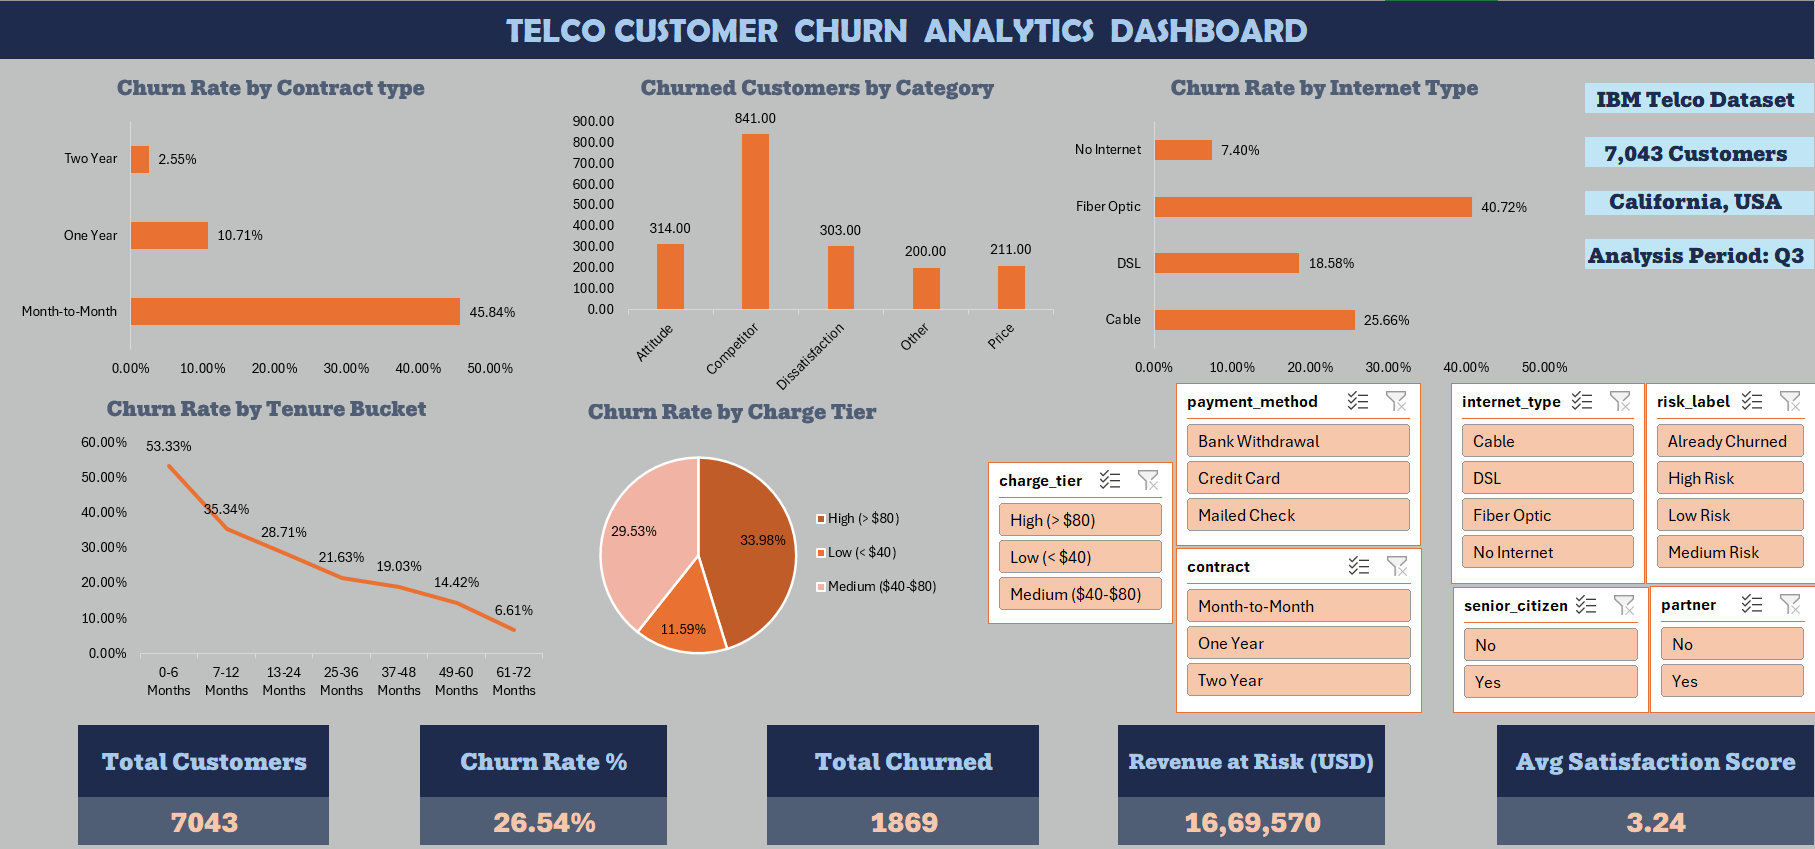

The dashboard page shown, as its layout file describes it:
{"tool":"powerbi","page":{"name":"Dashboard","canvas":[1280,720],"ordinal":0},"visuals":[{"type":"cardVisual","fields":{"Data":["_Measures.Total Customers"]},"box":[0,65.4,246.2,124.4],"z":0},{"type":"cardVisual","fields":{"Data":["_Measures.Churn Rate %"]},"box":[246.2,65.4,242.3,124.4],"z":1000},{"type":"cardVisual","fields":{"Data":["_Measures.Total Churned"]},"box":[750,65.4,261.5,124.4],"z":2000},{"type":"cardVisual","fields":{"Data":["_Measures.Revenue at Risk"]},"box":[488.5,65.4,261.5,124.4],"z":3000},{"type":"cardVisual","fields":{"Data":["_Measures.Avg Satisfaction Score"]},"box":[1011.5,65.4,267.9,124.4],"z":4000},{"type":"clusteredBarChart","fields":{"Category":["dim_services.contract"],"Y":["_Measures.Churn Rate %"]},"box":[0,455.1,421.8,265.4],"z":5000},{"type":"donutChart","fields":{"Category":["dim_status.customer_status"],"Y":["_Measures.Total Customers"]},"box":[0,189.7,453.8,265.4],"z":6000},{"type":"clusteredBarChart","fields":{"Category":["dim_services.internet_type"],"Y":["_Measures.Churn Rate %"]},"box":[857.7,455.1,421.8,265.4],"z":7000},{"type":"lineChart","fields":{"Category":["ChurnData.tenure_bucket"],"Y":["Avg(ChurnData.churn_value)"]},"box":[453.8,189.7,474.4,265.4],"z":8000},{"type":"clusteredColumnChart","fields":{"Category":["dim_status.churn_category"],"Y":["_Measures.Total Churned"]},"box":[421.8,455.1,435.9,265.4],"z":9000},{"type":"slicer","fields":{"Values":["dim_services.contract"]},"box":[928.2,334.6,175.6,120.5],"z":10000},{"type":"slicer","fields":{"Values":["dim_services.internet_type"]},"box":[1103.8,189.7,175.6,144.9],"z":11000},{"type":"slicer","fields":{"Values":["ChurnData.risk_label"]},"box":[928.2,189.7,175.6,150],"z":12000},{"type":"slicer","fields":{"Values":["ChurnData.charge_tier"]},"box":[1103.8,334.6,175.6,120.5],"z":13000},{"type":"shape","box":[0,0,1279.5,65.4],"z":14000}]}

Visuals, with their boxes on the page's 1280x720 design canvas (x1, y1, x2, y2). These are canvas units, not pixel positions in the 1815x849 screenshot, which may show the page scaled, cropped or inside an application window:
cardVisual - _Measures.Total Customers: <region>0, 65, 246, 190</region>
cardVisual - _Measures.Churn Rate %: <region>246, 65, 488, 190</region>
cardVisual - _Measures.Total Churned: <region>750, 65, 1012, 190</region>
cardVisual - _Measures.Revenue at Risk: <region>488, 65, 750, 190</region>
cardVisual - _Measures.Avg Satisfaction Score: <region>1012, 65, 1279, 190</region>
clusteredBarChart - dim_services.contract x _Measures.Churn Rate %: <region>0, 455, 422, 720</region>
donutChart - dim_status.customer_status x _Measures.Total Customers: <region>0, 190, 454, 455</region>
clusteredBarChart - dim_services.internet_type x _Measures.Churn Rate %: <region>858, 455, 1280, 720</region>
lineChart - ChurnData.tenure_bucket x Avg(ChurnData.churn_value): <region>454, 190, 928, 455</region>
clusteredColumnChart - dim_status.churn_category x _Measures.Total Churned: <region>422, 455, 858, 720</region>
slicer - dim_services.contract: <region>928, 335, 1104, 455</region>
slicer - dim_services.internet_type: <region>1104, 190, 1279, 335</region>
slicer - ChurnData.risk_label: <region>928, 190, 1104, 340</region>
slicer - ChurnData.charge_tier: <region>1104, 335, 1279, 455</region>
shape: <region>0, 0, 1280, 65</region>
